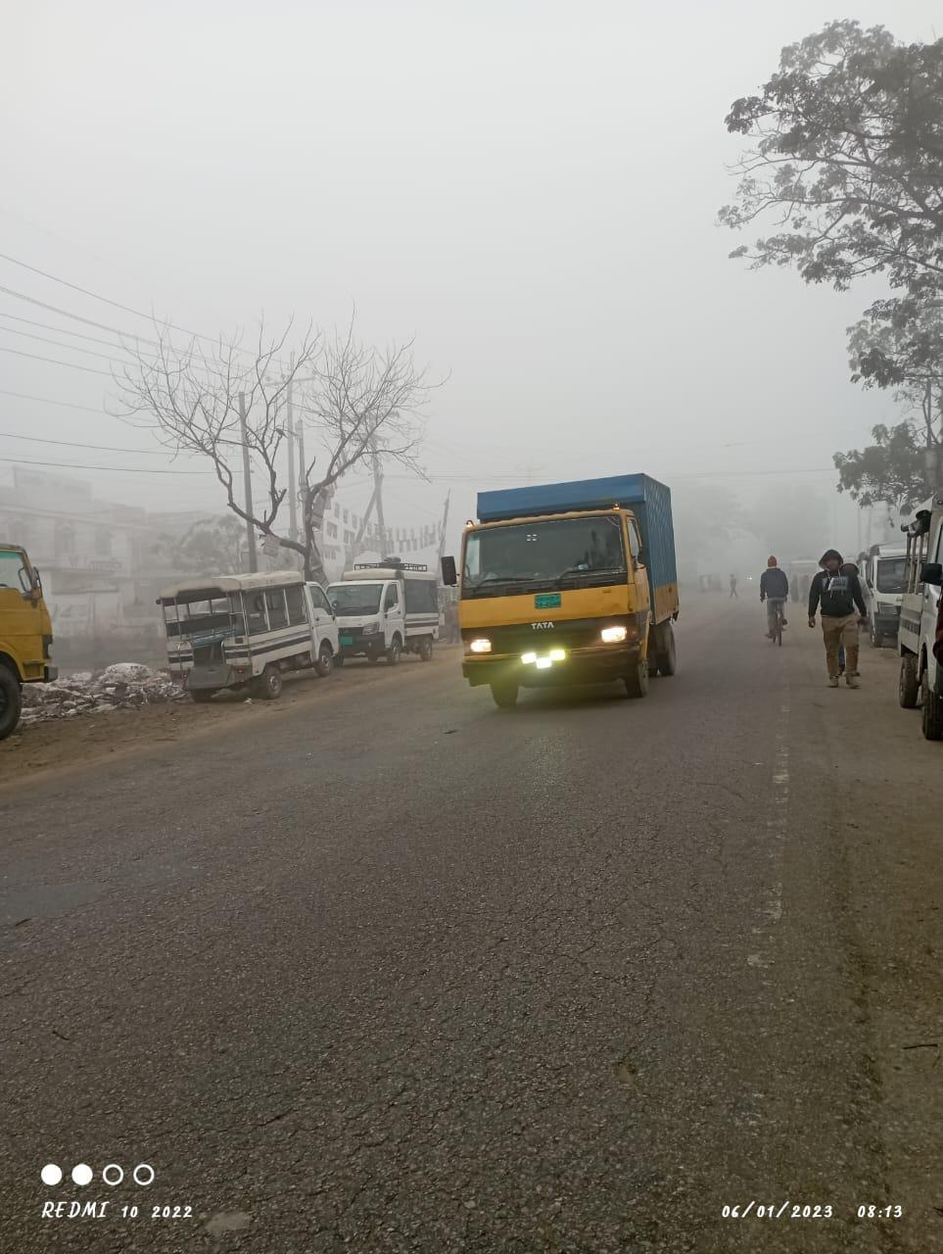Car: (158, 564, 341, 690), (323, 545, 448, 666), (859, 528, 915, 657)
Truck: (431, 461, 689, 702), (2, 537, 67, 746)
